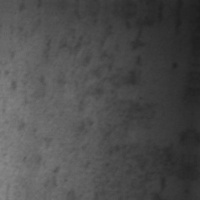pitted_surface: (13, 25, 144, 166)
